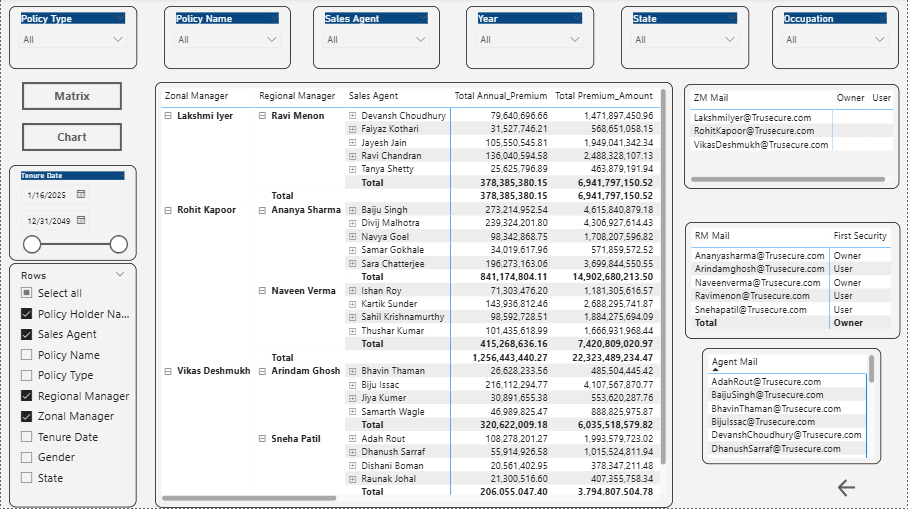

This screenshot's page, from the dashboard's own definition file:
{"tool":"powerbi","page":{"name":"Sales Hierarchy Performance","canvas":[1280,720],"ordinal":5},"visuals":[{"type":"pivotTable","fields":{"Rows":["DM Zonal_Manager.Zonal Manager Name","DM Regional_Manager.Regional Manager Name","DM Insurance_Agent_Table.Sales Agent","DM Customer_Detail_Table.Policy Holder Name"],"Values":["FCT Insurance_Policy_Table.Total Annual_Premium","FCT Insurance_Policy_Table.Total Premium_Amount","FCT Insurance_Policy_Table.Total Premium_Paid","FCT Insurance_Policy_Table.Total Premium_Payable","FCT Insurance_Policy_Table.Underwriting_expenses","Sum(FCT Insurance_Policy_Table.Profit / Gain)"]},"box":[217.4,118.6,731.3,601.4],"z":0},{"type":"slicer","fields":{"Values":["DM Policy_Type.Policy Type"]},"box":[11.3,11.3,180.7,88.9],"z":1000,"group":"g1"},{"type":"slicer","fields":{"Values":["DM Policy_Protection_Plan.Policy Name"]},"box":[230.1,11.3,179.3,88.9],"z":2000,"group":"g1"},{"type":"actionButton","title":"Matrix","box":[29.6,118.6,141.2,39.5],"z":2000},{"type":"slicer","fields":{"Values":["DM Insurance_Agent_Table.Sales Agent"]},"box":[440.5,11.3,179.3,88.9],"z":3000,"group":"g1"},{"type":"actionButton","box":[29.6,176.5,141.2,39.5],"z":3000},{"type":"group","id":"g1","title":"Group 1","box":[11.3,11.3,1256.5,708.7],"z":4000},{"type":"slicer","fields":{"Values":["FCT Insurance_Policy_Table.Date of Purchase.Variation.Date Hierarchy.Year"]},"box":[656.5,11.3,180.7,88.9],"z":4000,"group":"g1"},{"type":"slicer","fields":{"Values":["DM Customer_Detail_Table.State"]},"box":[875.3,11.3,180.7,88.9],"z":5000,"group":"g1"},{"type":"pivotTable","fields":{"Rows":["DM Regional_Manager.Mail"],"Values":["Min(DM Regional_Manager.Security)"]},"box":[965.6,316.2,303.5,165.2],"z":5000},{"type":"slicer","fields":{"Values":["DM Customer_Detail_Table.Occupation"]},"box":[1088.5,11.3,179.3,88.9],"z":6000,"group":"g1"},{"type":"pivotTable","fields":{"Rows":["DM Zonal_Manager.Mail"],"Columns":["DM Zonal_Manager.Security"]},"box":[964.2,121.4,303.5,148.2],"z":6000},{"type":"slicer","fields":{"Values":["Parameter - Selecting Rows.Parameter - Selecting Rows"]},"box":[11.9,374.5,180.1,345.3],"z":7000,"group":"g1"},{"type":"pivotTable","fields":{"Rows":["DM Insurance_Agent_Table.Agent Mail"]},"box":[989.6,494.1,252.7,163.8],"z":7000},{"type":"slicer","fields":{"Values":["FCT Insurance_Policy_Table.Tenure Date"]},"box":[11.9,236,180.1,135.4],"z":8000,"group":"g1"},{"type":"actionButton","box":[1177.4,674.8,55.1,33.9],"z":9000}]}

Visuals, with their boxes on the page's 1280x720 design canvas (x1, y1, x2, y2). These are canvas units, not pixel positions in the 908x509 screenshot, which may show the page scaled, cropped or inside an application window:
pivotTable - DM Zonal_Manager.Zonal Manager Name x DM Regional_Manager.Regional Manager Name: region(217, 119, 949, 720)
slicer - DM Policy_Type.Policy Type: region(11, 11, 192, 100)
slicer - DM Policy_Protection_Plan.Policy Name: region(230, 11, 409, 100)
"Matrix" actionButton: region(30, 119, 171, 158)
slicer - DM Insurance_Agent_Table.Sales Agent: region(440, 11, 620, 100)
actionButton: region(30, 176, 171, 216)
"Group 1" group: region(11, 11, 1268, 720)
slicer - FCT Insurance_Policy_Table.Date of Purchase.Variation.Date Hierarchy.Year: region(656, 11, 837, 100)
slicer - DM Customer_Detail_Table.State: region(875, 11, 1056, 100)
pivotTable - DM Regional_Manager.Mail x Min(DM Regional_Manager.Security): region(966, 316, 1269, 481)
slicer - DM Customer_Detail_Table.Occupation: region(1088, 11, 1268, 100)
pivotTable - DM Zonal_Manager.Mail x DM Zonal_Manager.Security: region(964, 121, 1268, 270)
slicer - Parameter - Selecting Rows.Parameter - Selecting Rows: region(12, 374, 192, 720)
pivotTable - DM Insurance_Agent_Table.Agent Mail: region(990, 494, 1242, 658)
slicer - FCT Insurance_Policy_Table.Tenure Date: region(12, 236, 192, 371)
actionButton: region(1177, 675, 1232, 709)
